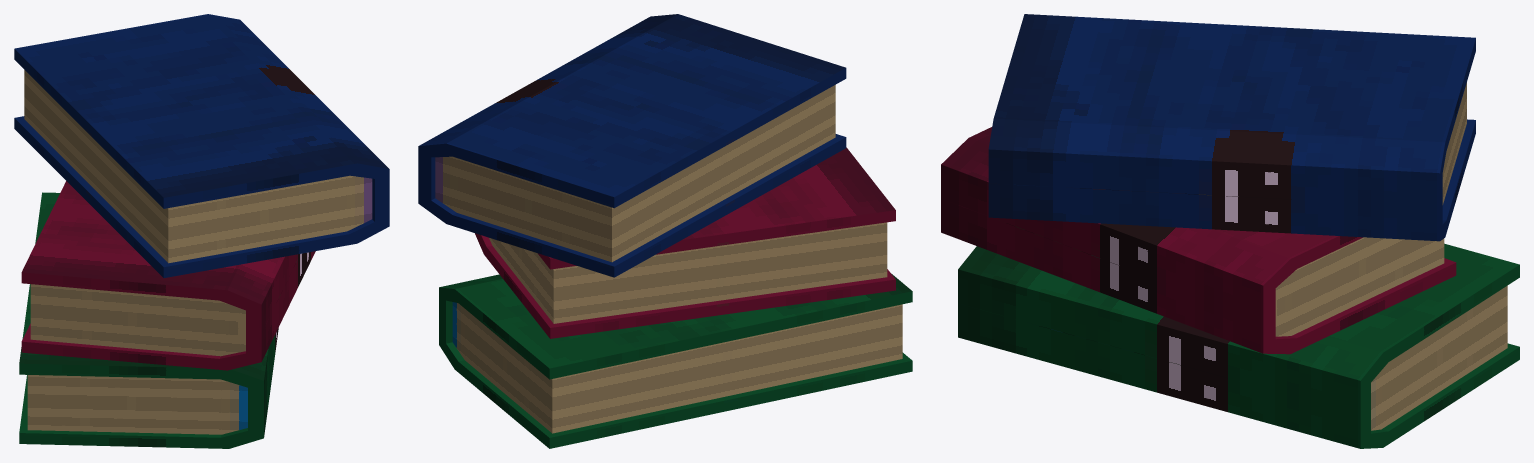
The model's file is E_BookLaying.3.fbx.
3 renders of one model, left to right at view 1: azimuth 30°, elevation 25°; view 2: azimuth 150°, elevation 25°; view 3: azimuth 270°, elevation 25°, orthographic. The views are drawn at different scales.
Parts seen in each view (by area): view 1: Cube.003; view 2: Cube.003; view 3: Cube.003.
Part boxes in pixels (x1,y1,x2,y2): Cube.003: (14,14,389,448); Cube.003: (418,14,912,448); Cube.003: (941,14,1519,448).
Bounding box in the file's own units: 67.21 × 42.38 × 75.29.
